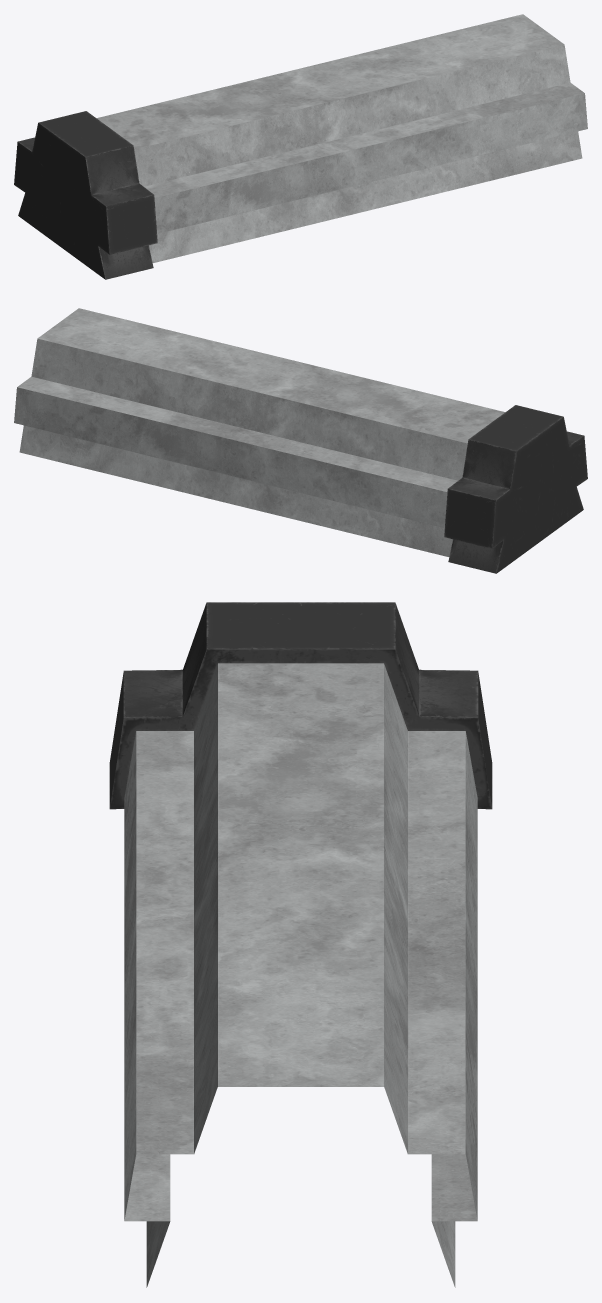
The model's file is CraneRailEnd.fbx.
3 views of the same model, one above another, from view 1: azimuth 30°, elevation 25°; view 2: azimuth 150°, elevation 25°; view 3: azimuth 270°, elevation 25° (orthographic). The views are drawn at different scales.
Parts seen in each view (by area): view 1: TerrainRail.008; view 2: TerrainRail.008; view 3: TerrainRail.008.
Part boxes in pixels (x1,y1,x2,y2): TerrainRail.008: (14,14,587,279); TerrainRail.008: (14,308,587,573); TerrainRail.008: (109,602,492,1287).
Size of the model in its own units: 500 by 107 by 172.
